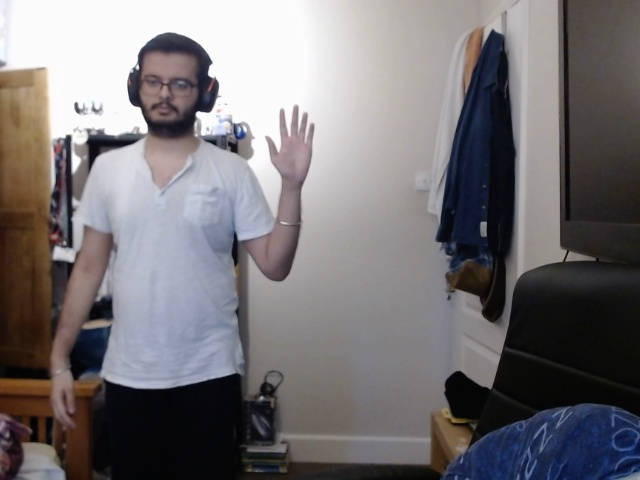Hello: (259, 100, 319, 200)
